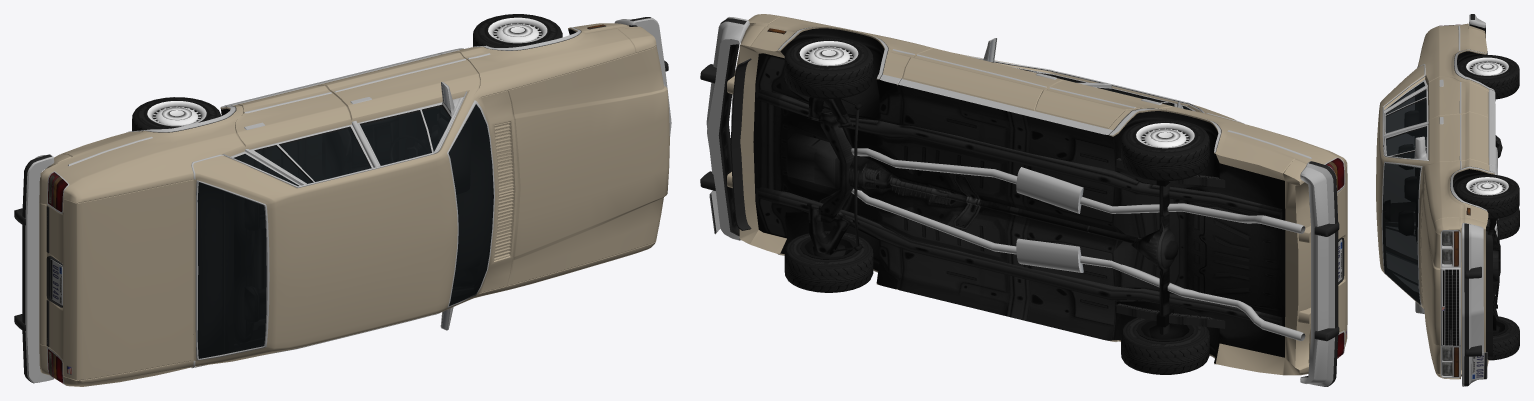
File: model_paint2.gltf
The picture shows the model from 3 angles, left to right: view 1: azimuth 30°, elevation 25°; view 2: azimuth 150°, elevation 25°; view 3: azimuth 270°, elevation 25°; orthographic projection. The views are drawn at different scales.
Parts seen in each view (by area): view 1: fairheaven_lt80; view 2: fairheaven_lt80; view 3: fairheaven_lt80.
Part boxes in pixels (<box>): fairheaven_lt80: <box>14,14,671,386</box>; fairheaven_lt80: <box>700,14,1347,386</box>; fairheaven_lt80: <box>1376,14,1519,386</box>.
Bounding box in the file's own units: 5 × 1.83 × 1.35.
8 materials, 7 textured.
